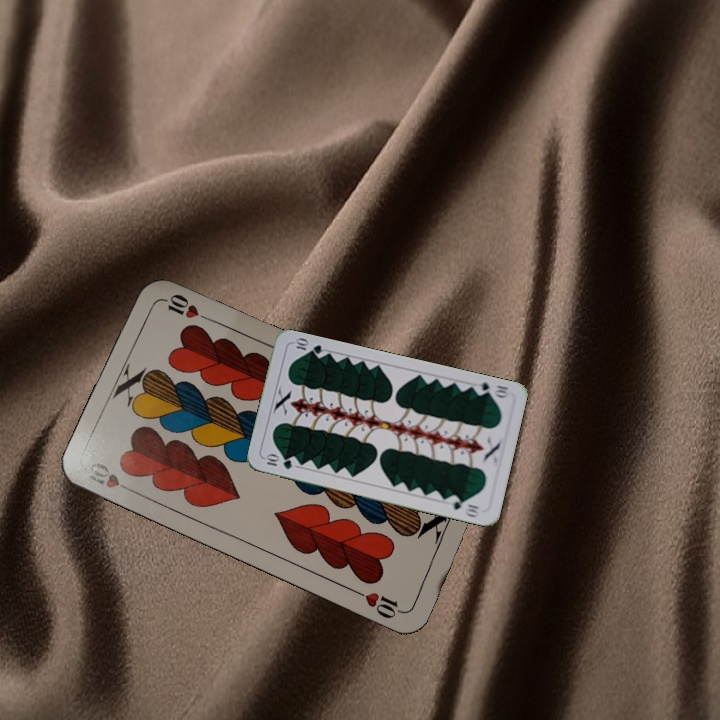G10: (470, 378, 512, 401), (262, 451, 295, 472)
H10: (83, 457, 138, 497)
